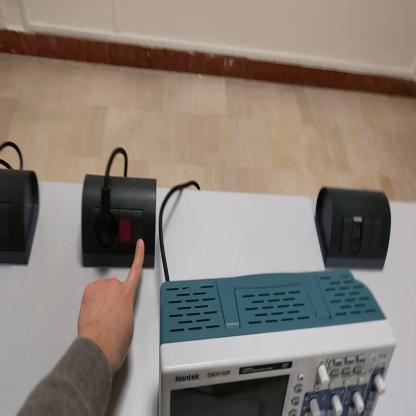hand: (78, 240, 145, 375)
oscilloscope: (156, 265, 395, 414)
socket: (81, 176, 159, 271), (1, 169, 40, 266)
